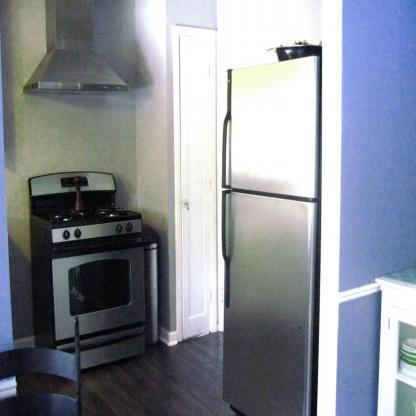door: (176, 31, 214, 323)
hinged: (208, 178, 212, 192), (209, 290, 212, 302), (208, 64, 210, 76)
lever: (181, 200, 190, 209)
